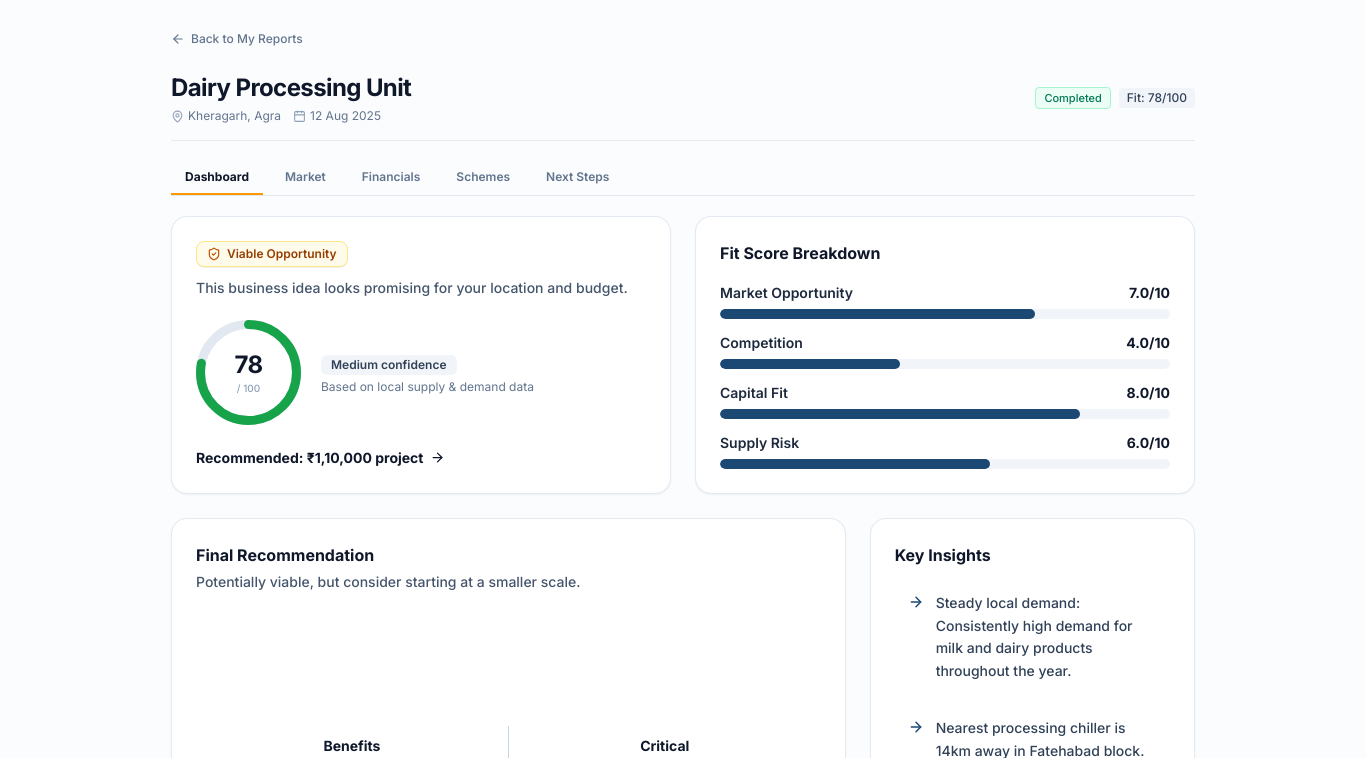
Test: ReportScreen (Feasibility Dashboard) › switches to Next Steps tab and allows editing personal notes
The image size is (1366, 758).
Click the button "Next Steps" at (578, 178), box [532,161,623,195]
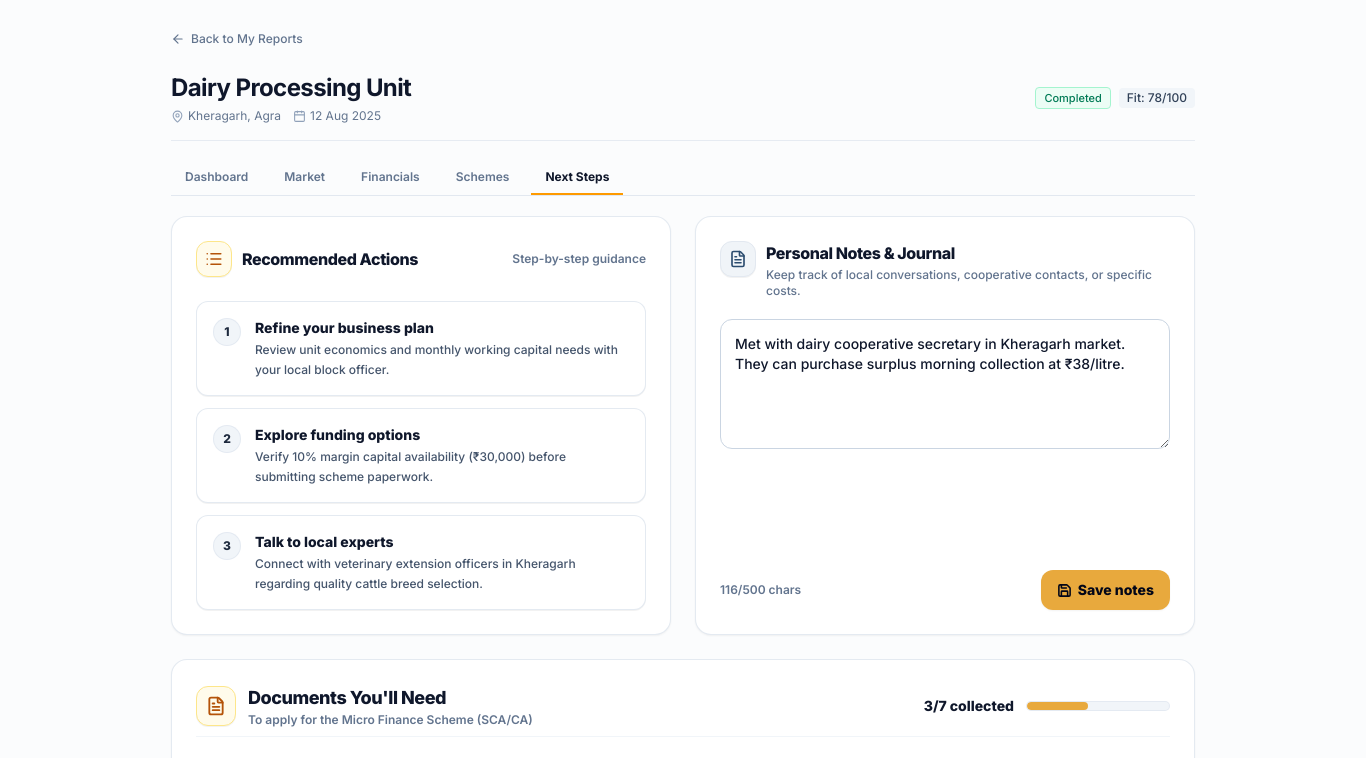
Check: the heading "Recommended Actions" is shown, box [242,247,418,271]
Check: the text box named "Personal notes for this assessment" is shown
Replace the text in the text box named "Personal notes for this assessment" with "Spoke with local vet today." at (945, 384), box [720,319,1170,449]
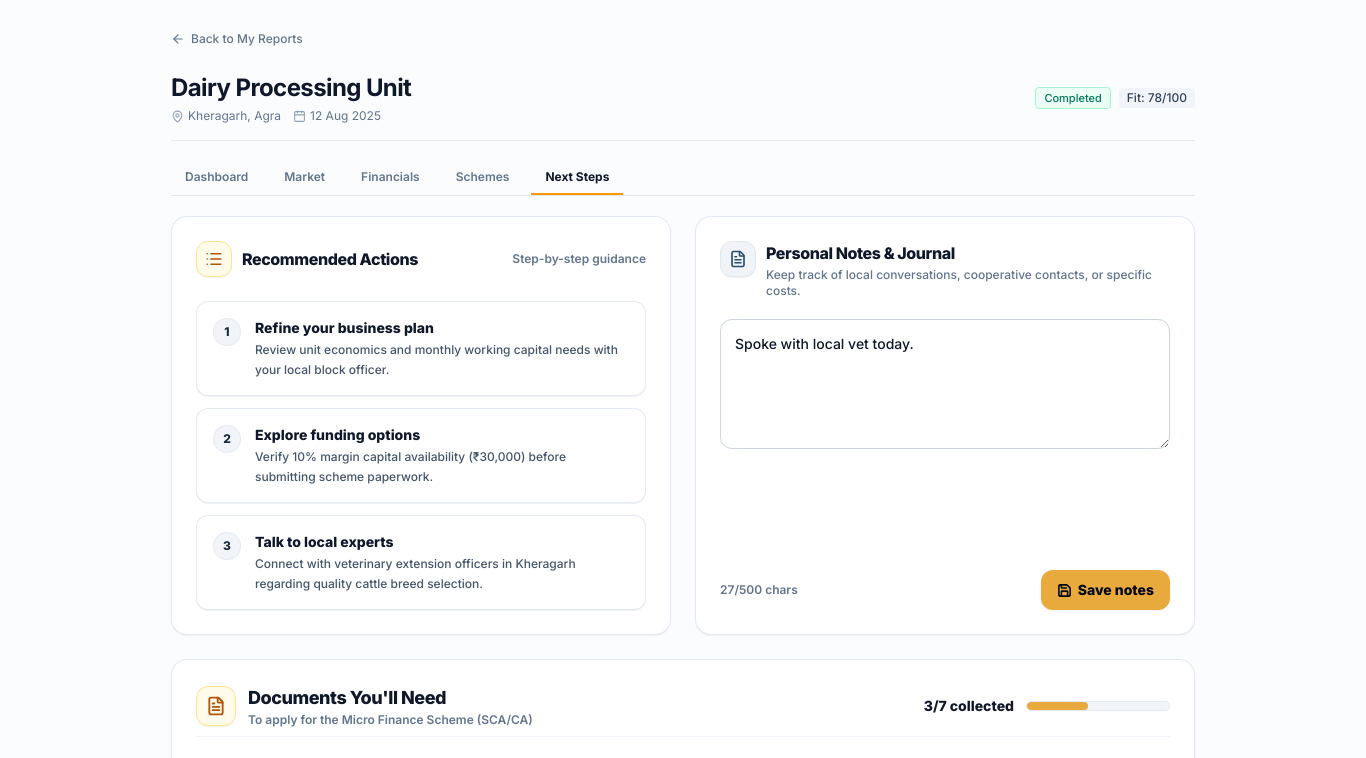
Click the button "Save notes" at (1105, 590), box [1041,570,1170,610]
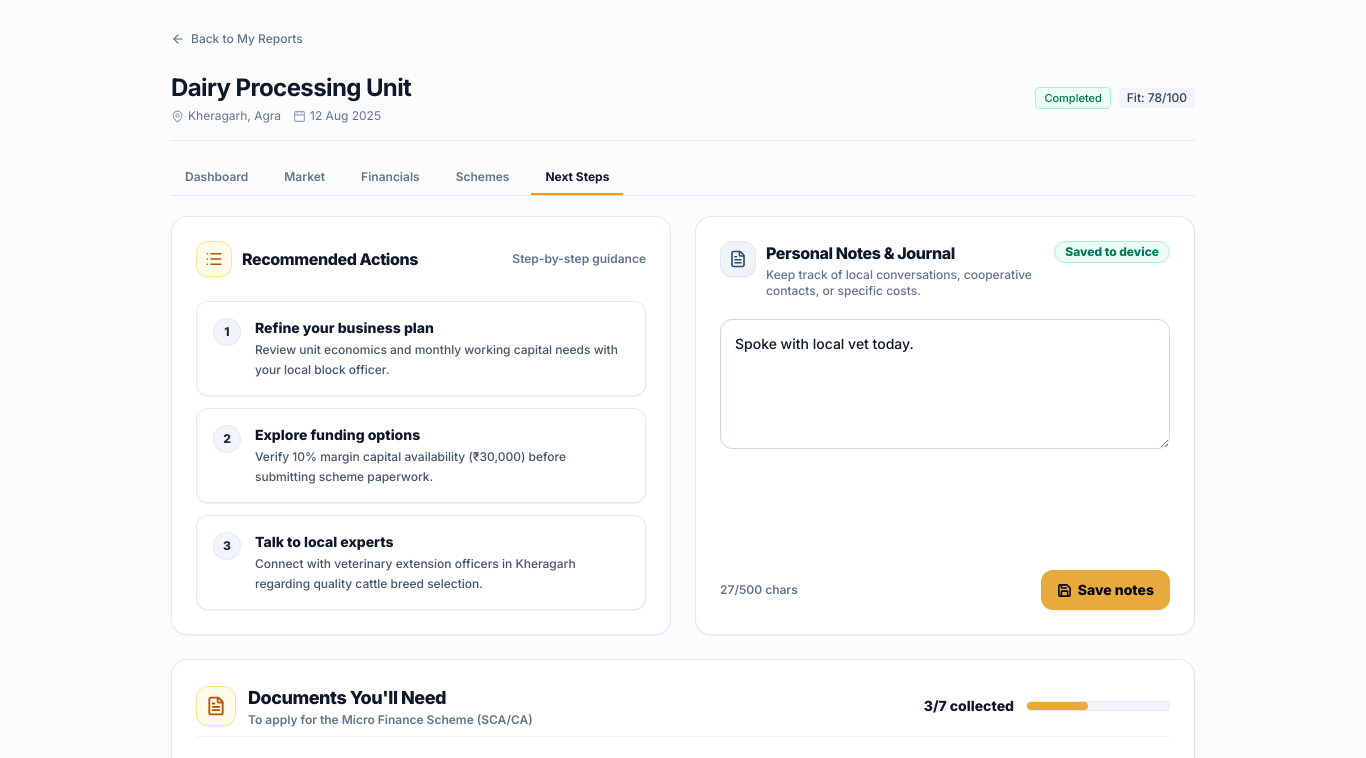
Check: the text "Saved to device" is shown, box [1054,241,1170,263]
